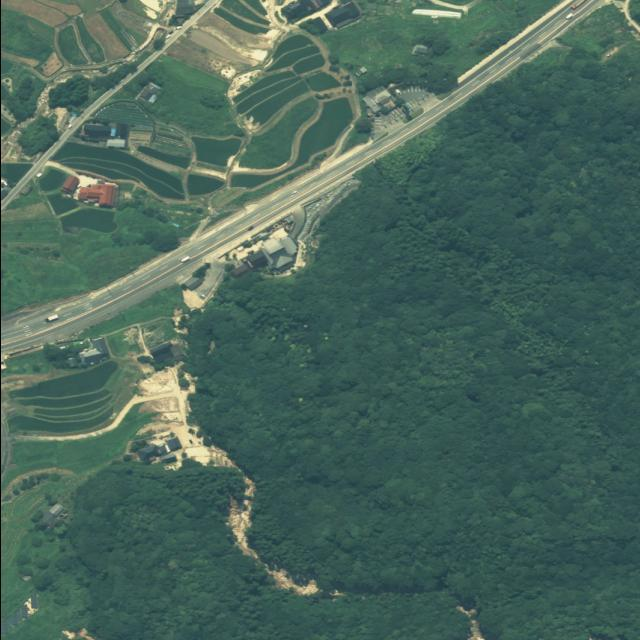landslide: (128, 367, 235, 469), (226, 477, 317, 596)
